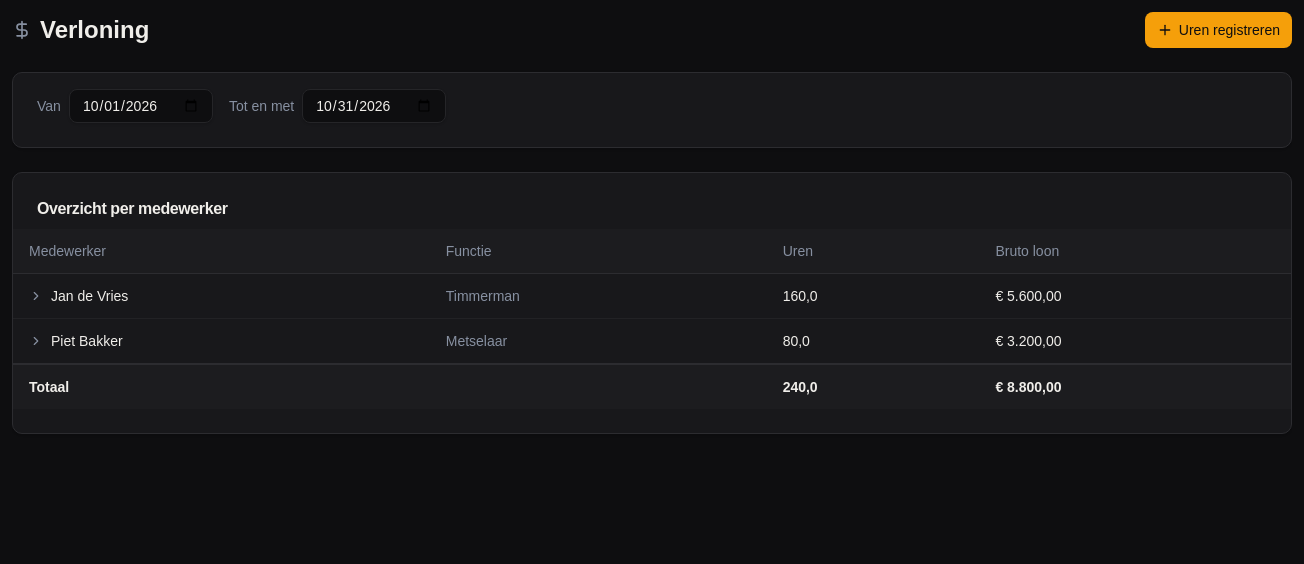
Test: PayrollOverviewPage — expand row shows project breakdown › clicking a row expands to show project breakdown
Expected: the text "Jan de Vries" is shown, [51,286,128,306]
Click the row with test id "row-staff-1" at (652, 296), box [13,274,1291,318]
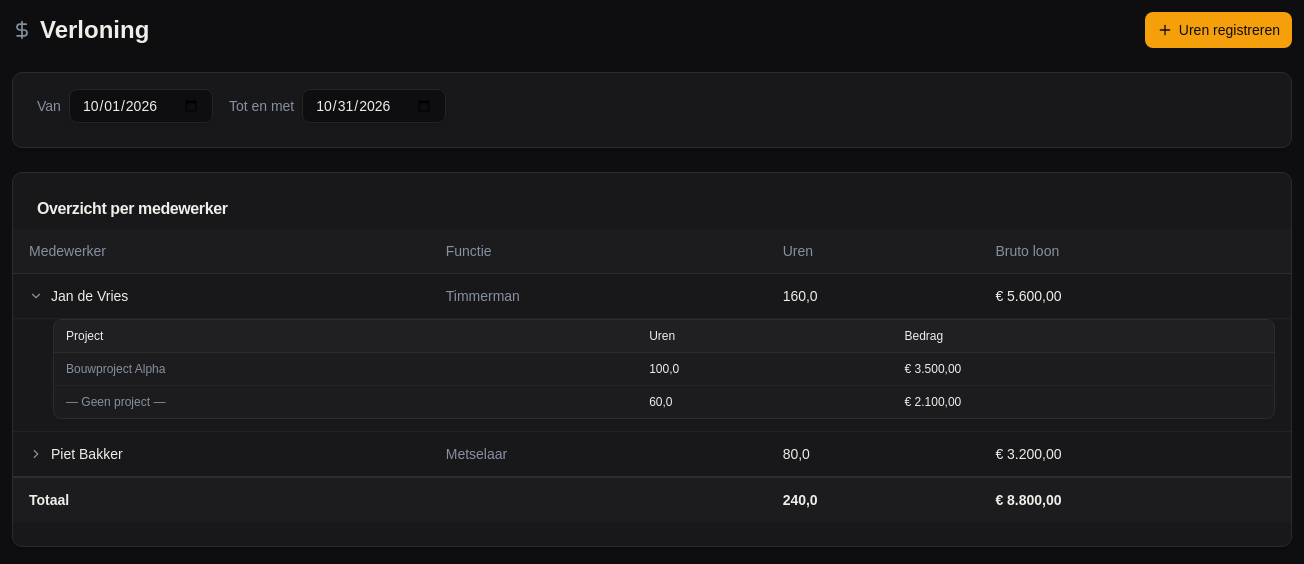
Expected: the row with test id "breakdown-staff-1" is shown, [13,318,1291,432]
